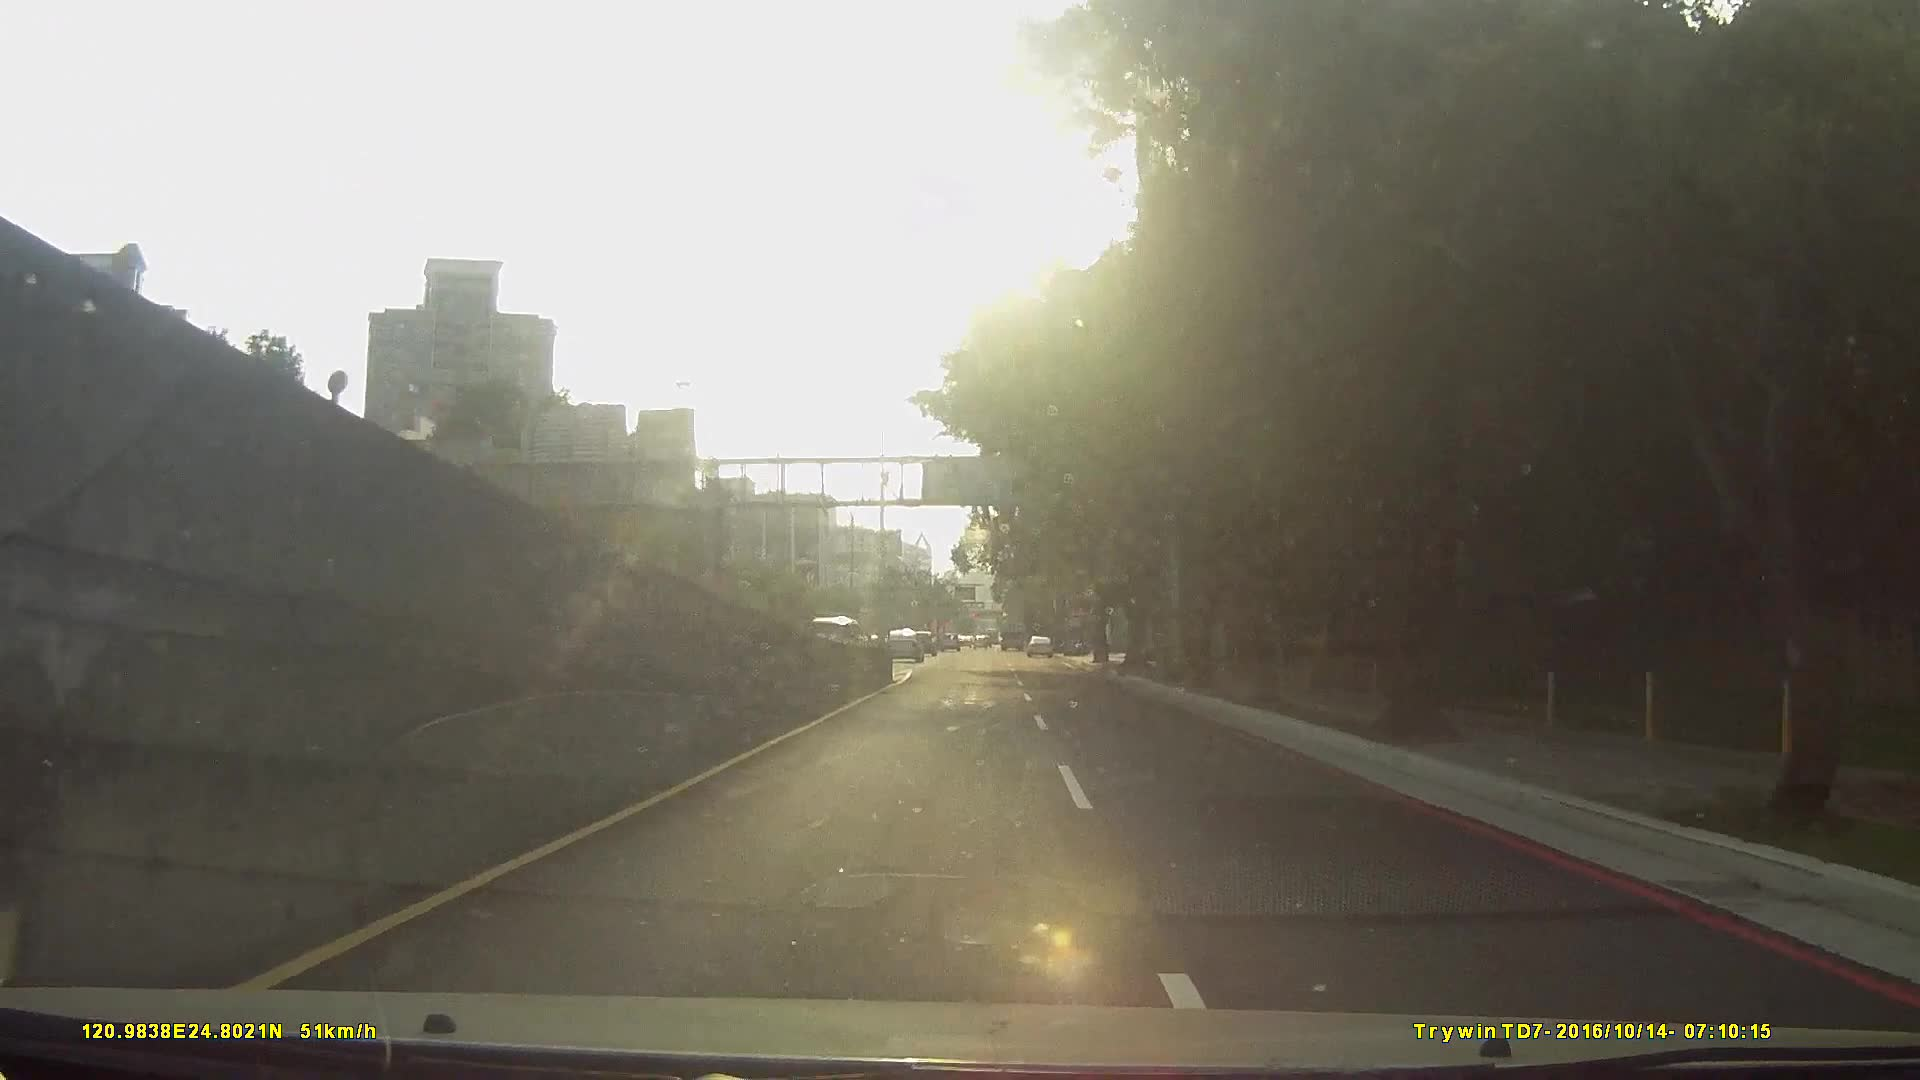vehicle: (880, 628, 923, 665), (1000, 615, 1026, 650), (1023, 633, 1054, 657)
